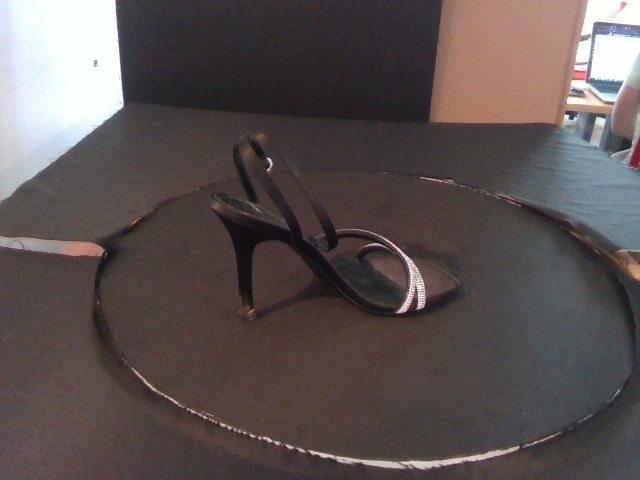shoe: (209, 132, 462, 320)
